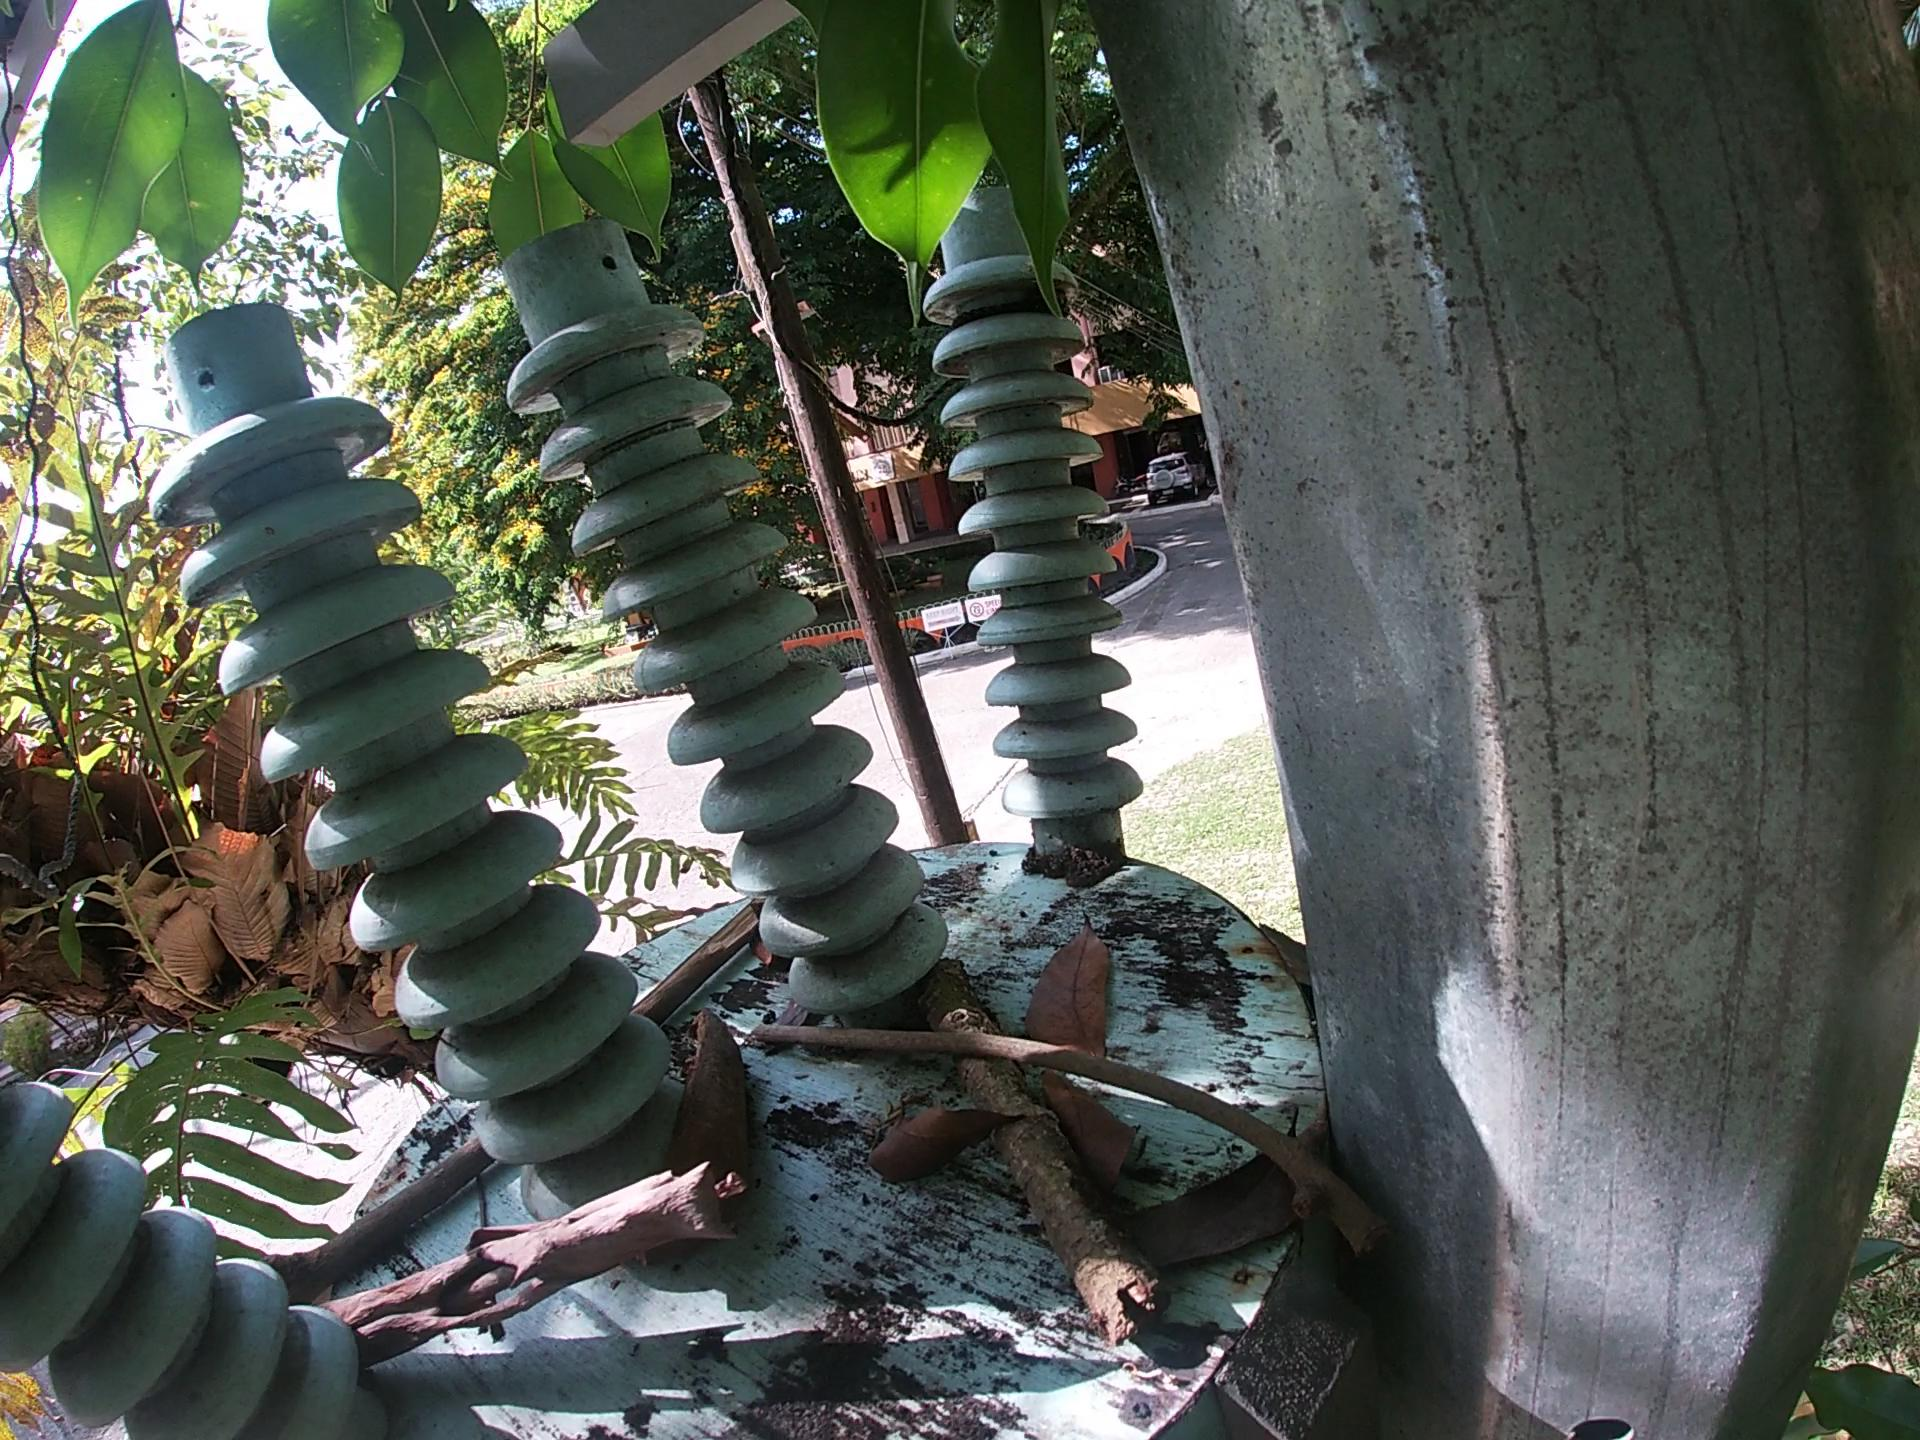leaf: (1131, 1134, 1367, 1263), (850, 1094, 1060, 1171), (1043, 1075, 1173, 1198), (1017, 920, 1141, 1047)
mahogany fruit: (671, 1004, 754, 1184), (750, 939, 788, 961)
tree branch: (757, 1016, 1391, 1240), (934, 948, 1191, 1346), (299, 1157, 762, 1358), (260, 1144, 496, 1283), (624, 903, 773, 1010), (464, 1156, 485, 1237)
